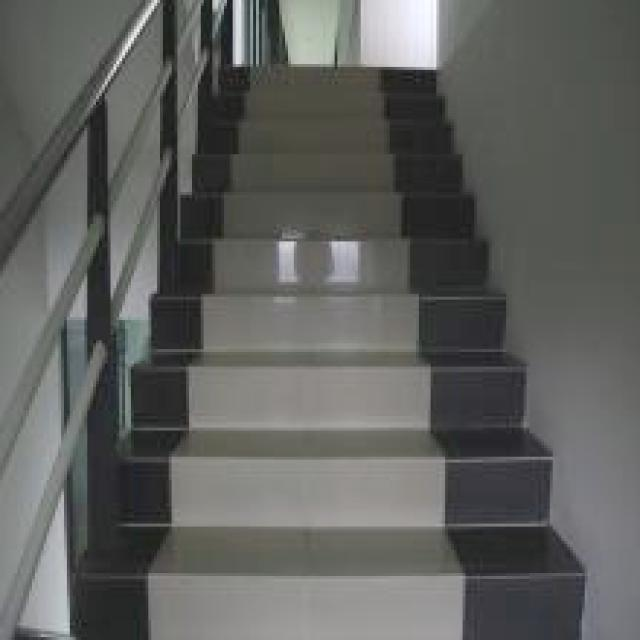upstair: (181, 143, 484, 548)
